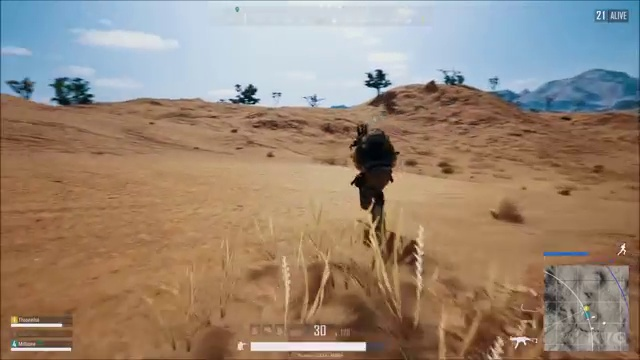Player: (328, 111, 422, 236)
